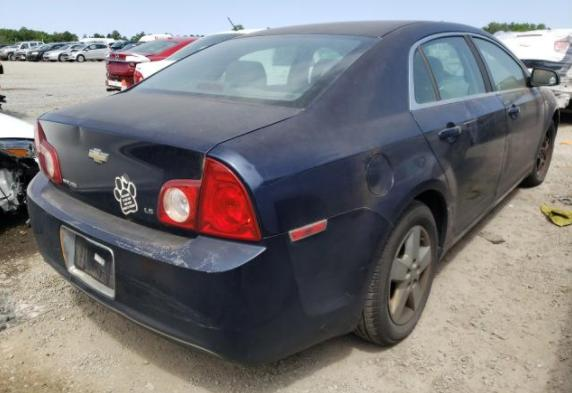Back-bumper: (26, 170, 393, 367)
Back-door: (408, 31, 508, 246)
Back-wheel: (341, 200, 440, 350)
Back-window: (421, 36, 487, 100), (413, 49, 438, 103)
Back-windshield: (127, 33, 383, 110)
Fender: (535, 87, 560, 160)
Front-door: (464, 31, 545, 207)
Front-wheel: (514, 119, 555, 190)
Front-window: (473, 37, 526, 91)
License-plate: (74, 234, 112, 289)
Mirror: (525, 67, 561, 88)
Quarter-panel: (207, 105, 453, 249)
Rocker-panel: (438, 160, 536, 264)
Roof: (219, 20, 434, 43)
Tail-light: (156, 156, 264, 243), (33, 118, 65, 187)
Trunk: (37, 92, 306, 239)
